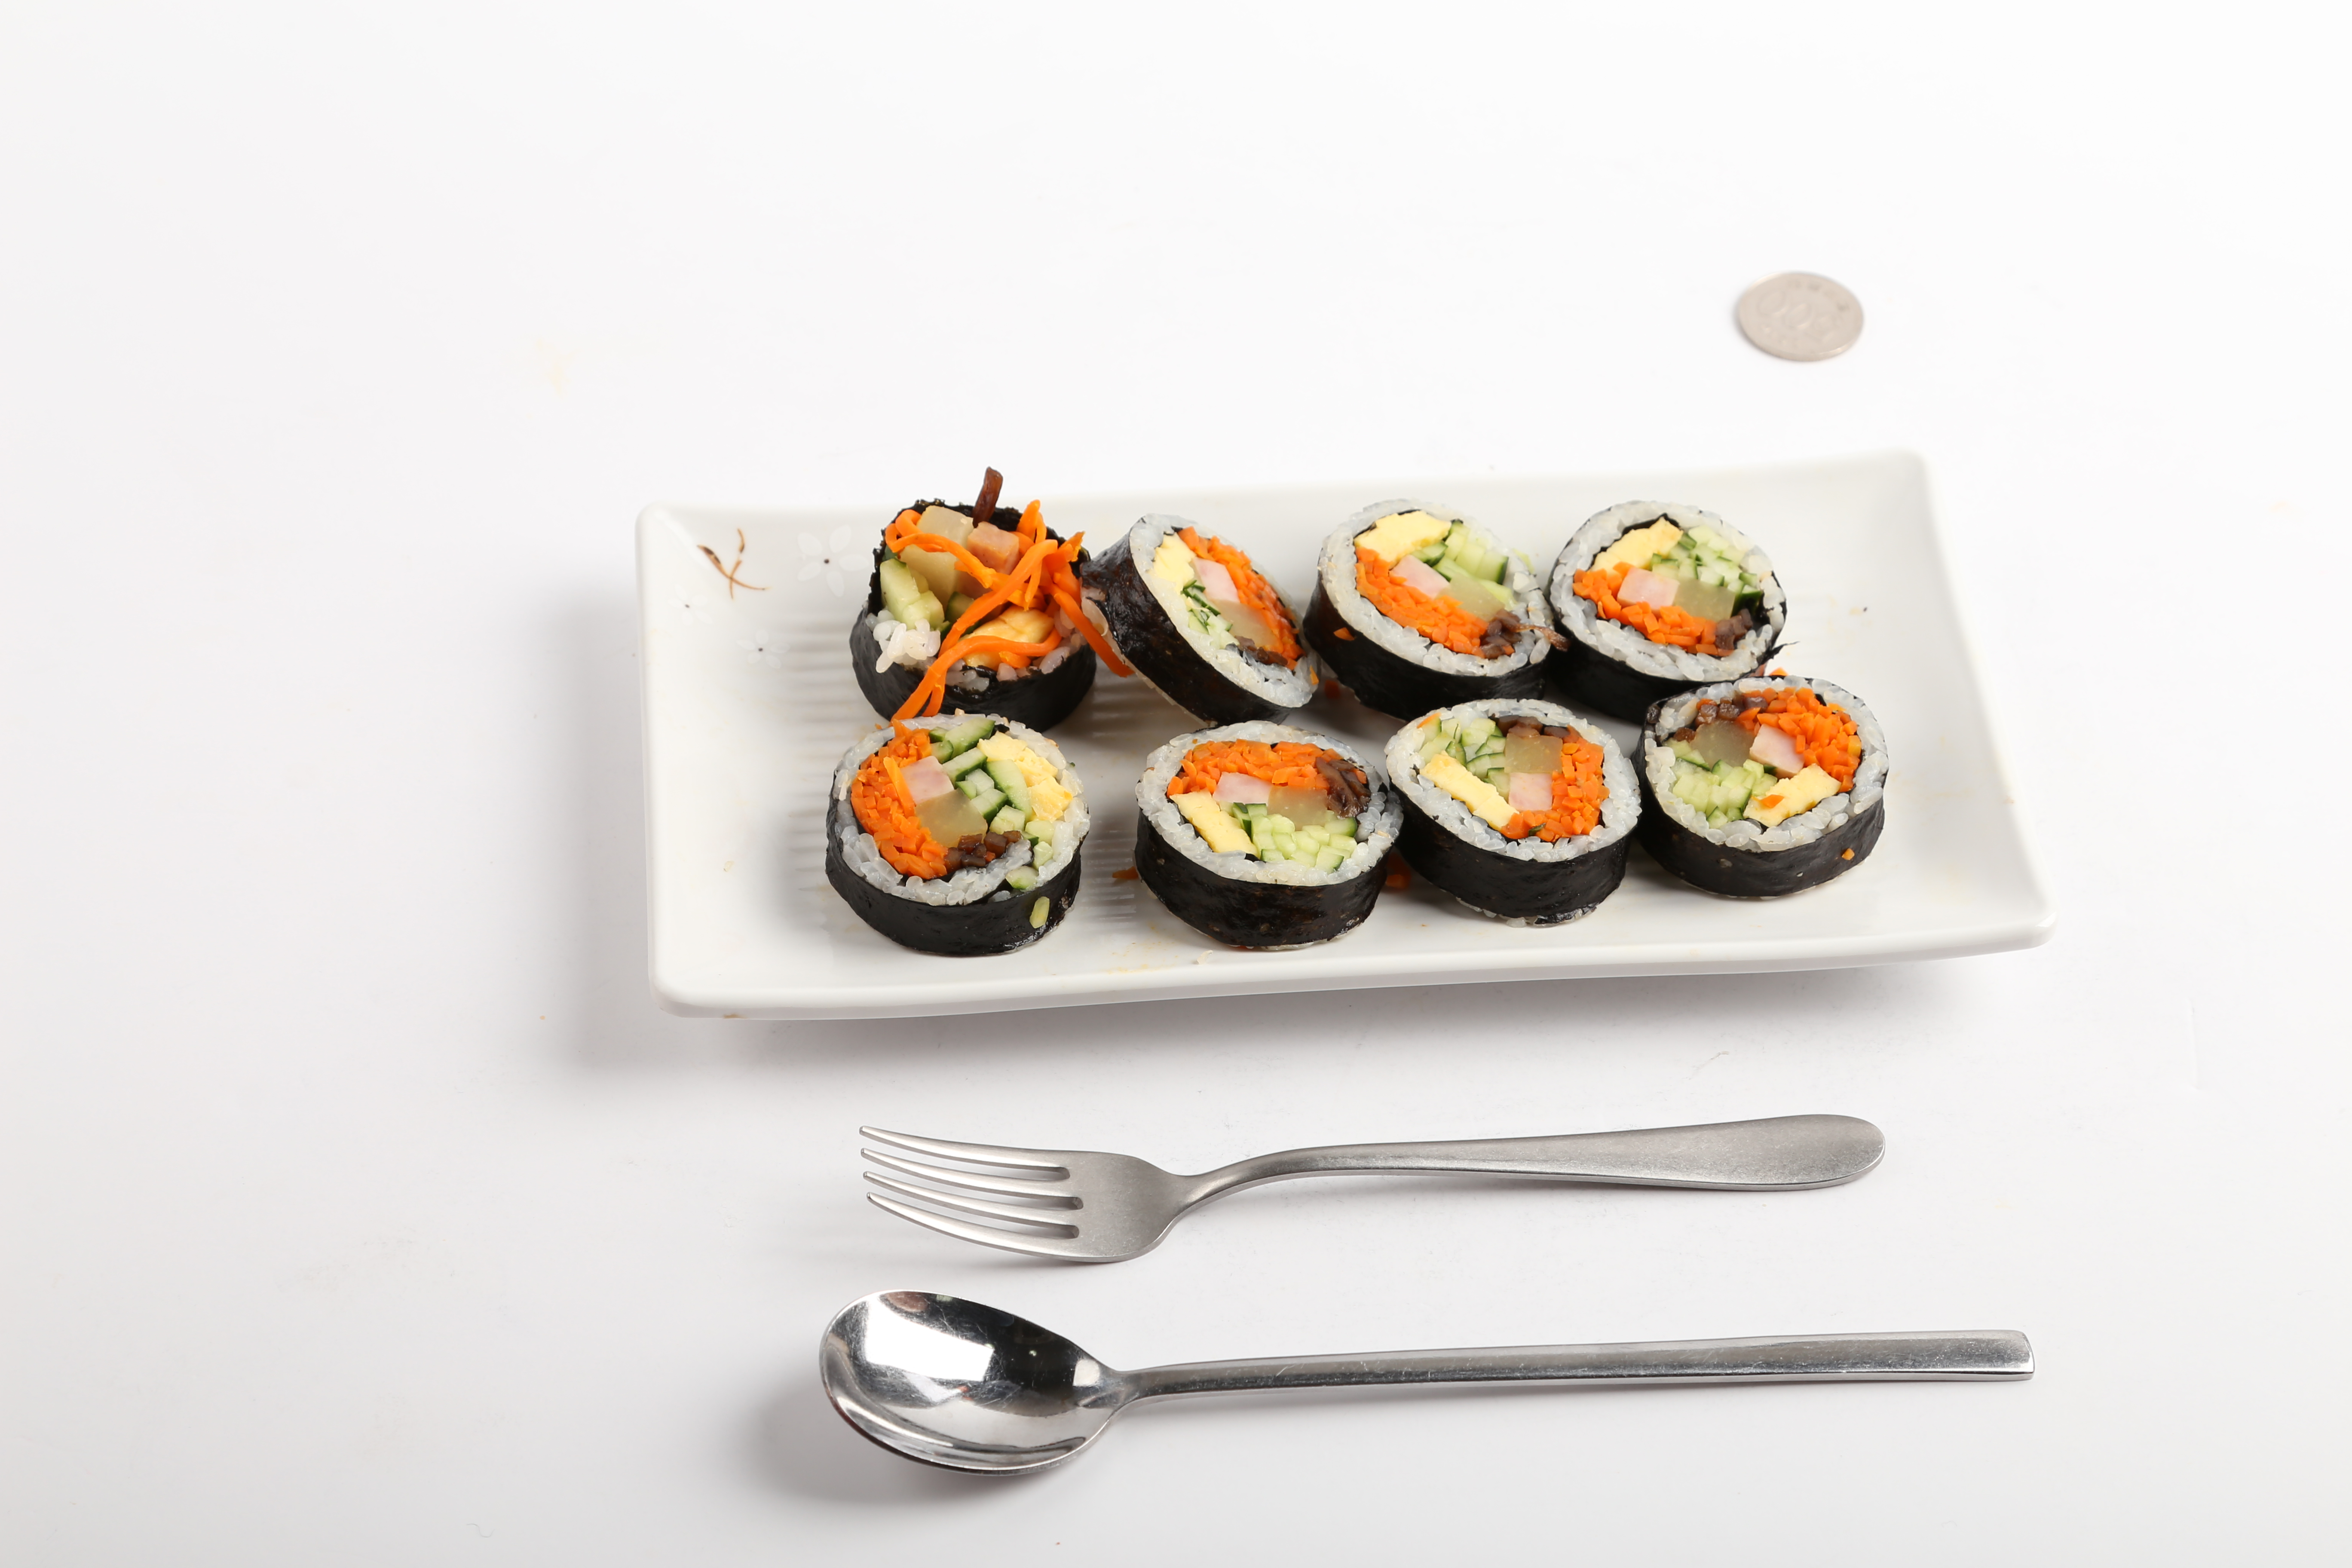dish: (632, 446, 2063, 1029)
ref_coin: (1731, 261, 1869, 367)
ref_fork: (854, 1113, 1251, 1269)
ref_spoon: (810, 1281, 1206, 1482)
김밥: (815, 472, 1897, 966)
